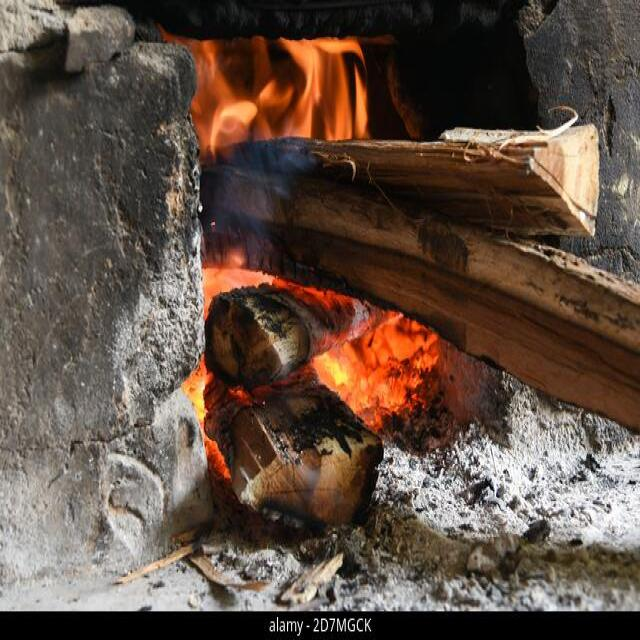fire: (158, 25, 369, 167), (201, 247, 274, 316), (312, 349, 359, 391)
